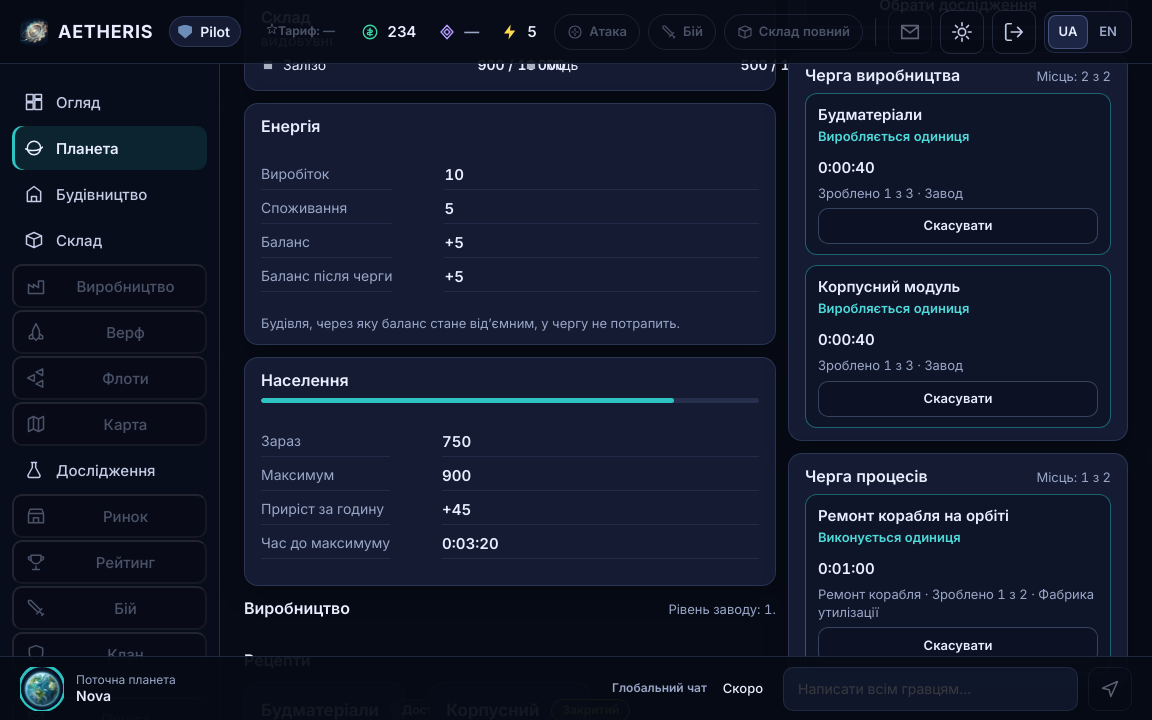
Test case: the queues of the production and of the processes on /planet › cancels a batch of the second factory in its own factory and reads the production again
(page scrolled)
Check: the heading "Рецепти" is shown, box [244, 650, 311, 670]
What coordinates should you click on to do the following:
click the button with aria-label "Скасувати: Корпусний модуль"
I would click on:
 (958, 399)
Its box is [818, 381, 1098, 417].
(page scrolled)
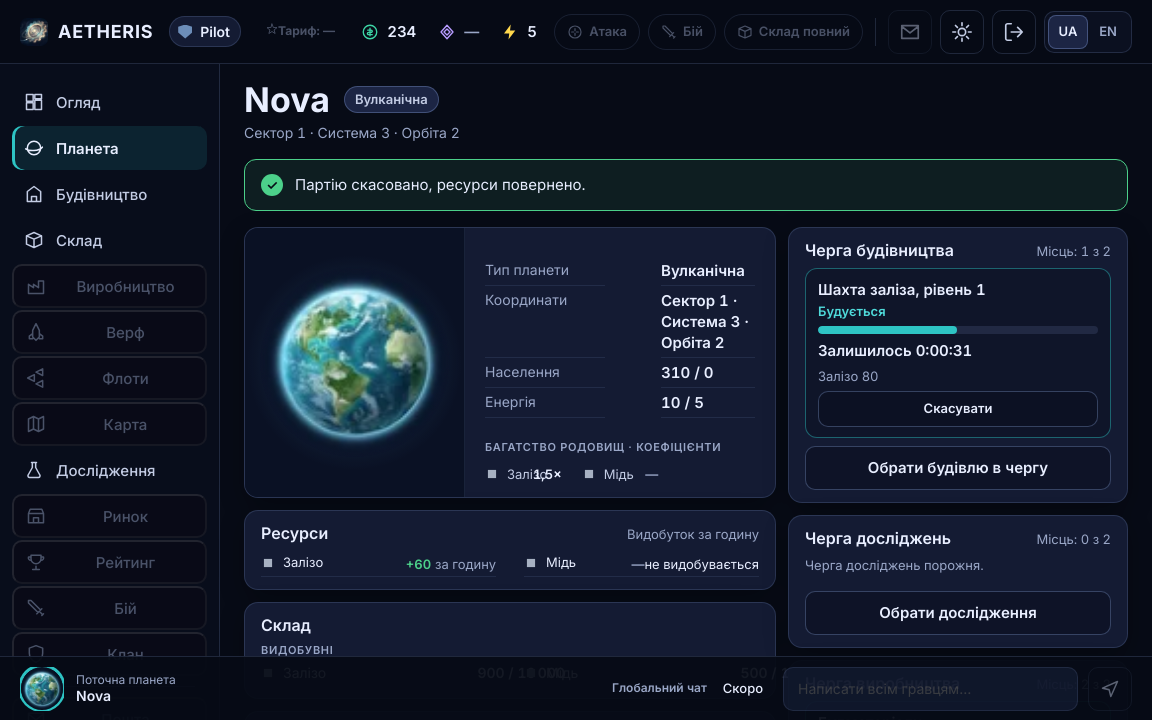
Check: the text "Партію скасовано, ресурси повернено." is shown, box [295, 174, 586, 195]
